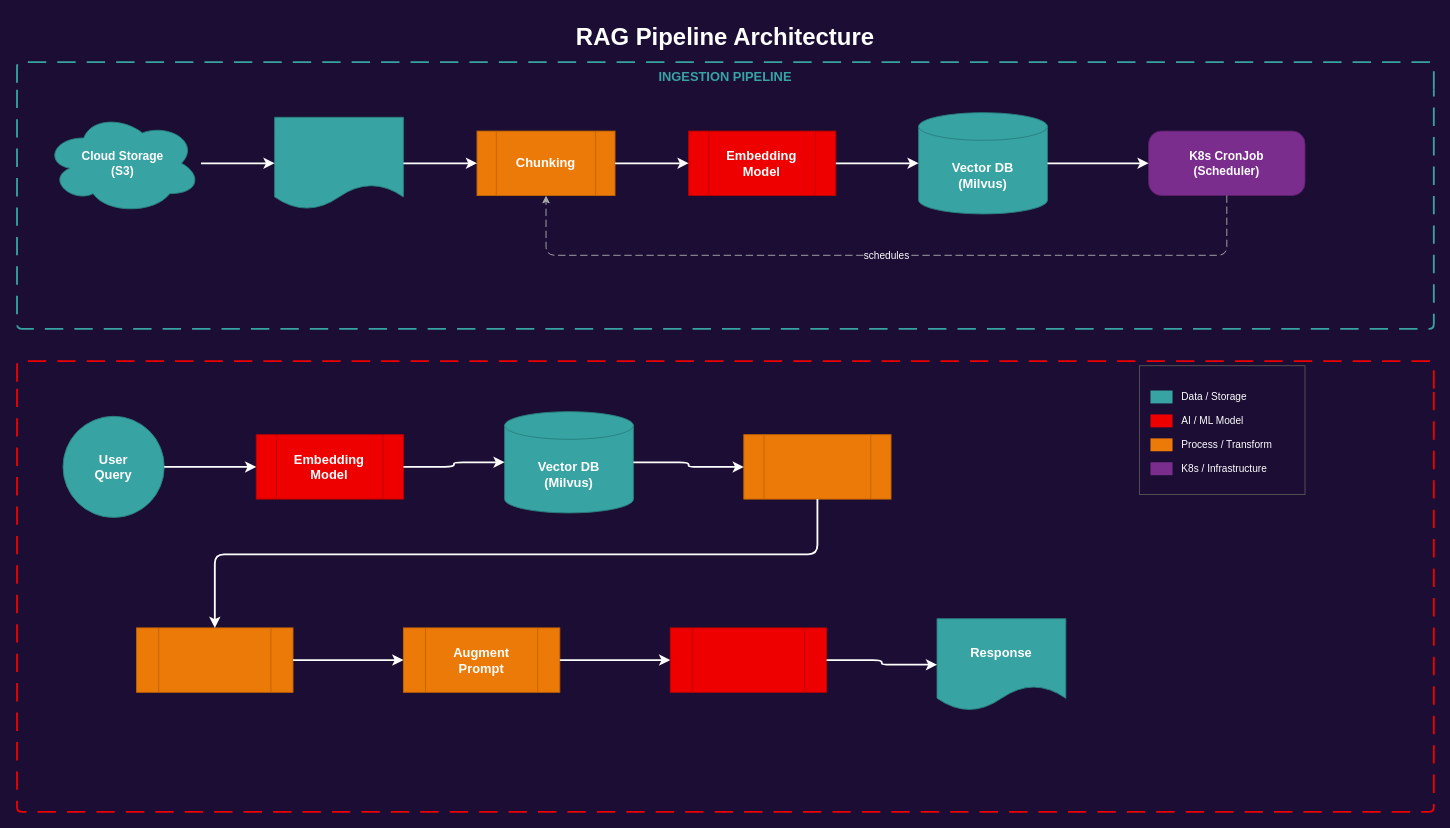
This 1450x828 diagram has some shape labels left out. Each missing label, with the box of its shape:
Documents: (274, 116, 403, 209)
LEGEND: (1138, 365, 1305, 494)
LLM (vLLM): (669, 627, 827, 692)
QUERY PIPELINE: (16, 360, 1434, 812)
Relevance Check: (136, 627, 293, 692)
Retrieve Top-K: (743, 434, 891, 499)
